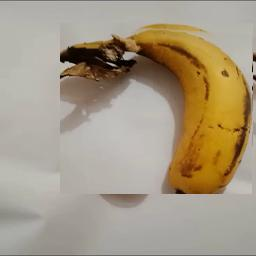Banana Semifresh: (61, 23, 254, 194)
